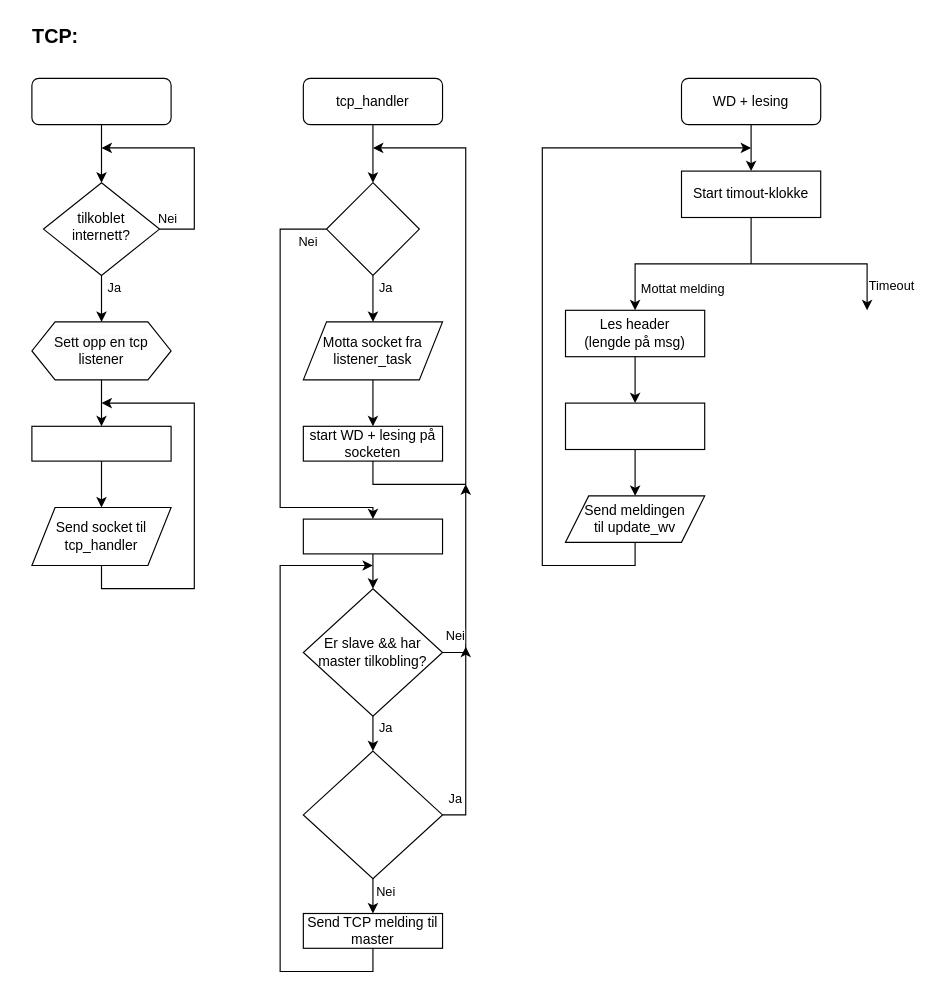
Some shapes in this 934 by 1001 pixel diagram are drawn without their labels. Here are the shapes that lost their labels. From the top down, the centre of each, then its label:
[101,101]: listener_task
[372,229]: er master?
[101,443]: Accept
[634,425]: Les meldingen
[372,536]: Koble til master
[372,814]: Ny master på nettverk?
